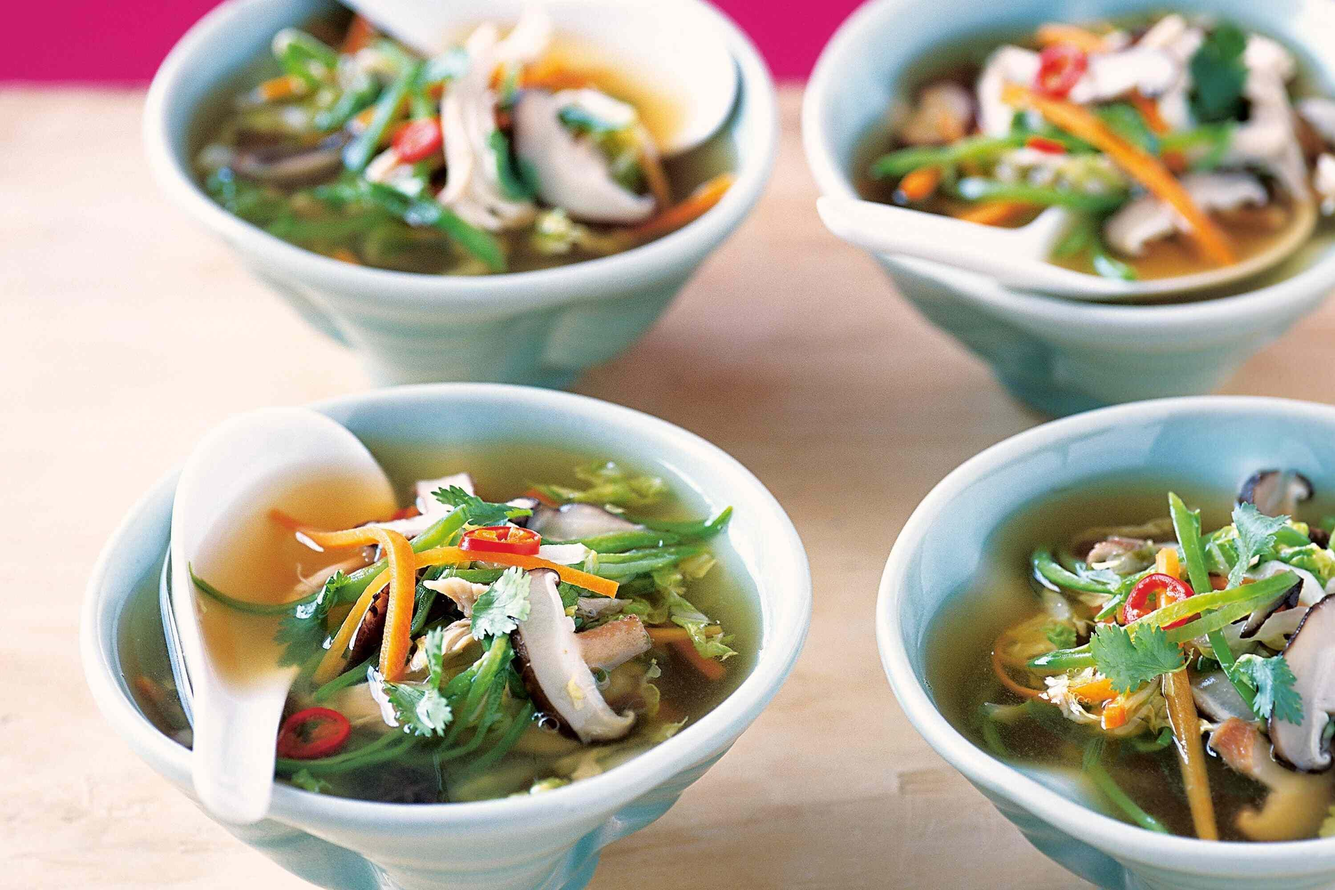Braised Crucian Carp: (81, 374, 817, 879), (136, 2, 760, 391), (877, 392, 1335, 890), (792, 0, 1335, 411)
